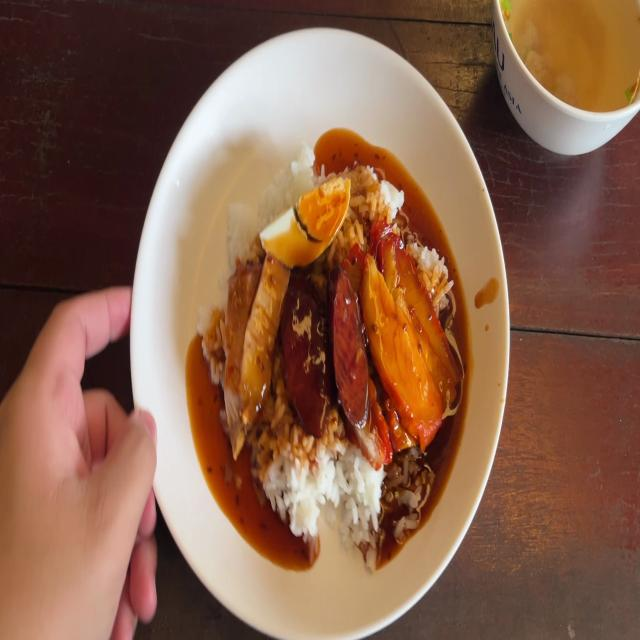01boiled_egg: (261, 175, 348, 263)
01chainese_sausage: (279, 267, 367, 426)
01crispy_pork: (224, 256, 273, 434)
01red_pork: (366, 232, 447, 426)
01red_pork_and_crispy_pork: (201, 141, 453, 556)
01rice: (259, 422, 387, 547)
